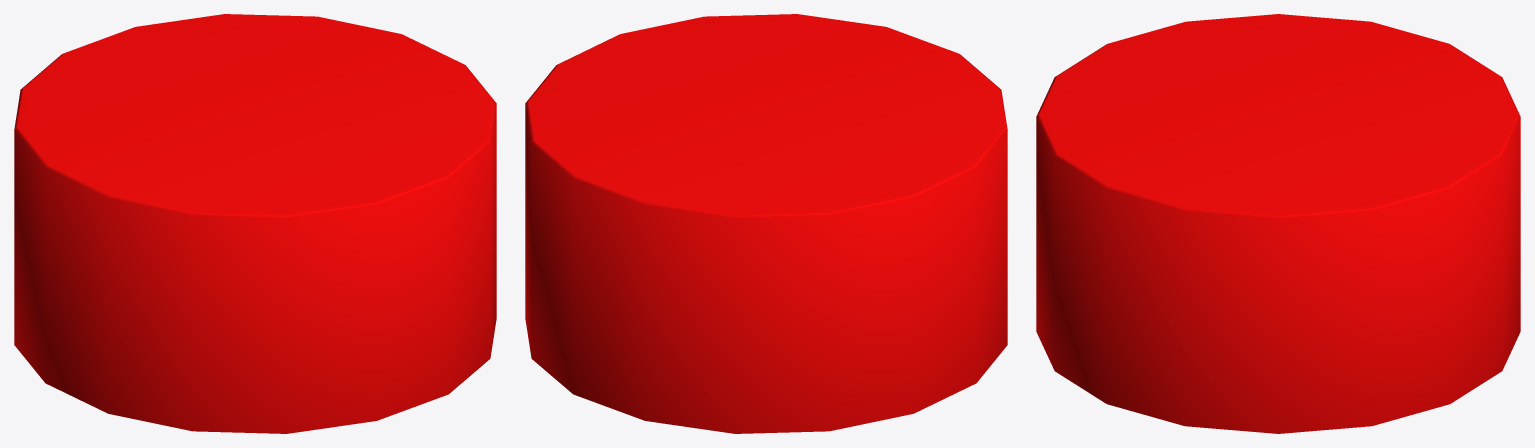
File: part_3_props_mesh_05.fbx
The picture shows the model from 3 angles, left to right: view 1: azimuth 30°, elevation 25°; view 2: azimuth 150°, elevation 25°; view 3: azimuth 270°, elevation 25°; orthographic projection.
Visible parts, largest first — view 1: part_3_props_mesh_05; view 2: part_3_props_mesh_05; view 3: part_3_props_mesh_05.
Boxes of the visible parts, bbox=[...] form: part_3_props_mesh_05: bbox=[14, 14, 496, 433]; part_3_props_mesh_05: bbox=[525, 14, 1007, 433]; part_3_props_mesh_05: bbox=[1036, 14, 1520, 433].
Bounding box in the file's own units: 10.06 × 4.98 × 10.07.
